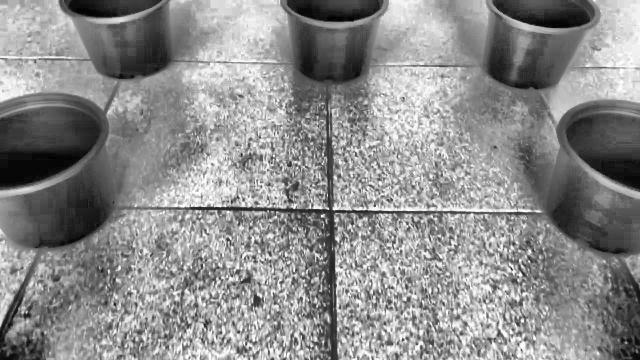pot: (1, 93, 116, 250), (545, 100, 640, 256), (481, 0, 602, 91), (58, 0, 174, 82), (280, 0, 389, 84)
